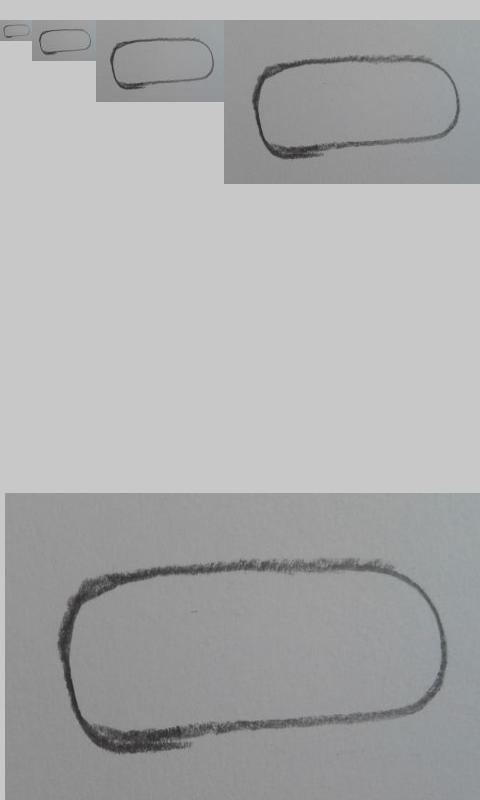chip: (57, 557, 448, 755), (252, 54, 462, 158), (110, 37, 215, 89), (39, 28, 92, 56), (3, 24, 32, 38)
